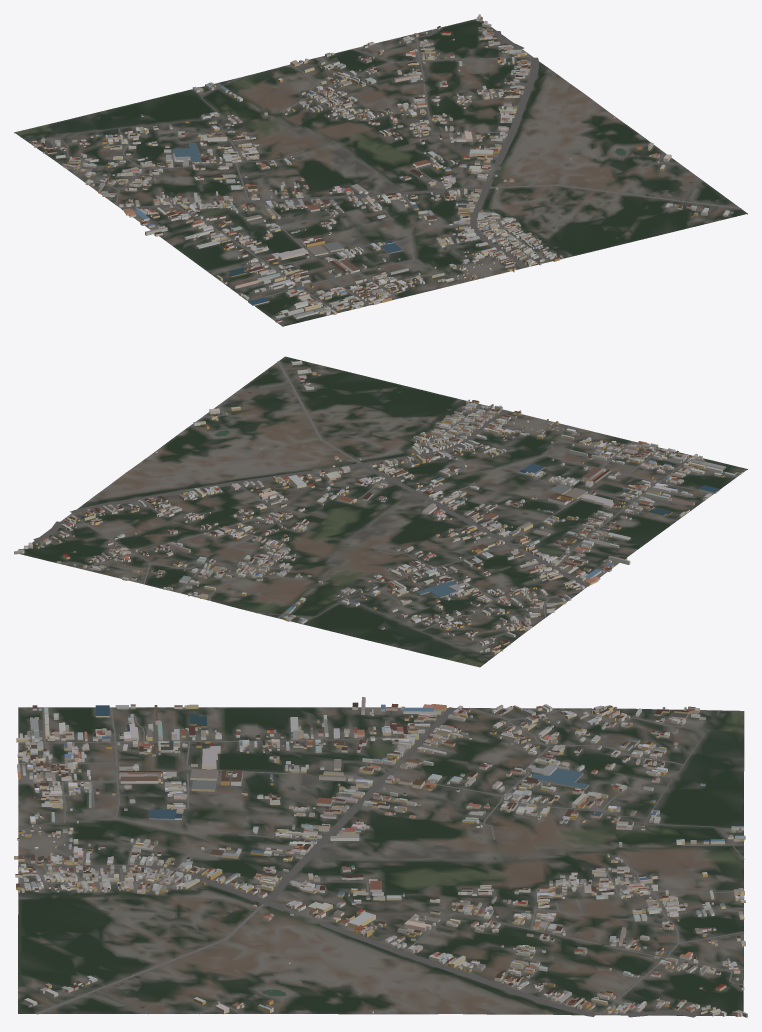
The picture shows the model from 3 angles, top to bottom: view 1: azimuth 30°, elevation 25°; view 2: azimuth 150°, elevation 25°; view 3: azimuth 270°, elevation 25°; orthographic projection. The views are drawn at different scales.
Visible parts, largest first — view 1: ground, buildings, roads; view 2: ground, buildings, roads; view 3: ground, buildings, roads.
Boxes of the visible parts, bbox=[...] form: ground: bbox=[14, 19, 747, 326]; buildings: bbox=[32, 14, 733, 322]; roads: bbox=[23, 29, 741, 319]; ground: bbox=[19, 356, 747, 667]; buildings: bbox=[14, 360, 742, 654]; roads: bbox=[33, 361, 738, 660]; ground: bbox=[18, 707, 744, 1015]; buildings: bbox=[14, 697, 747, 1017]; roads: bbox=[18, 707, 744, 1017].
Size of the model in its own units: 1436 by 22.99 by 1416.
